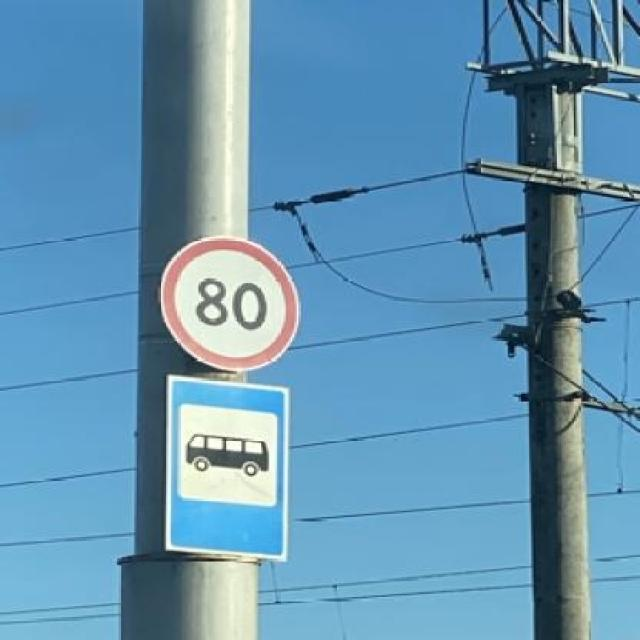forb_speed_over_80: (161, 239, 302, 370)
